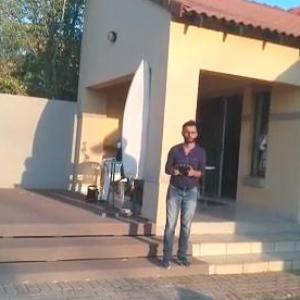follow: (160, 115, 210, 273)
